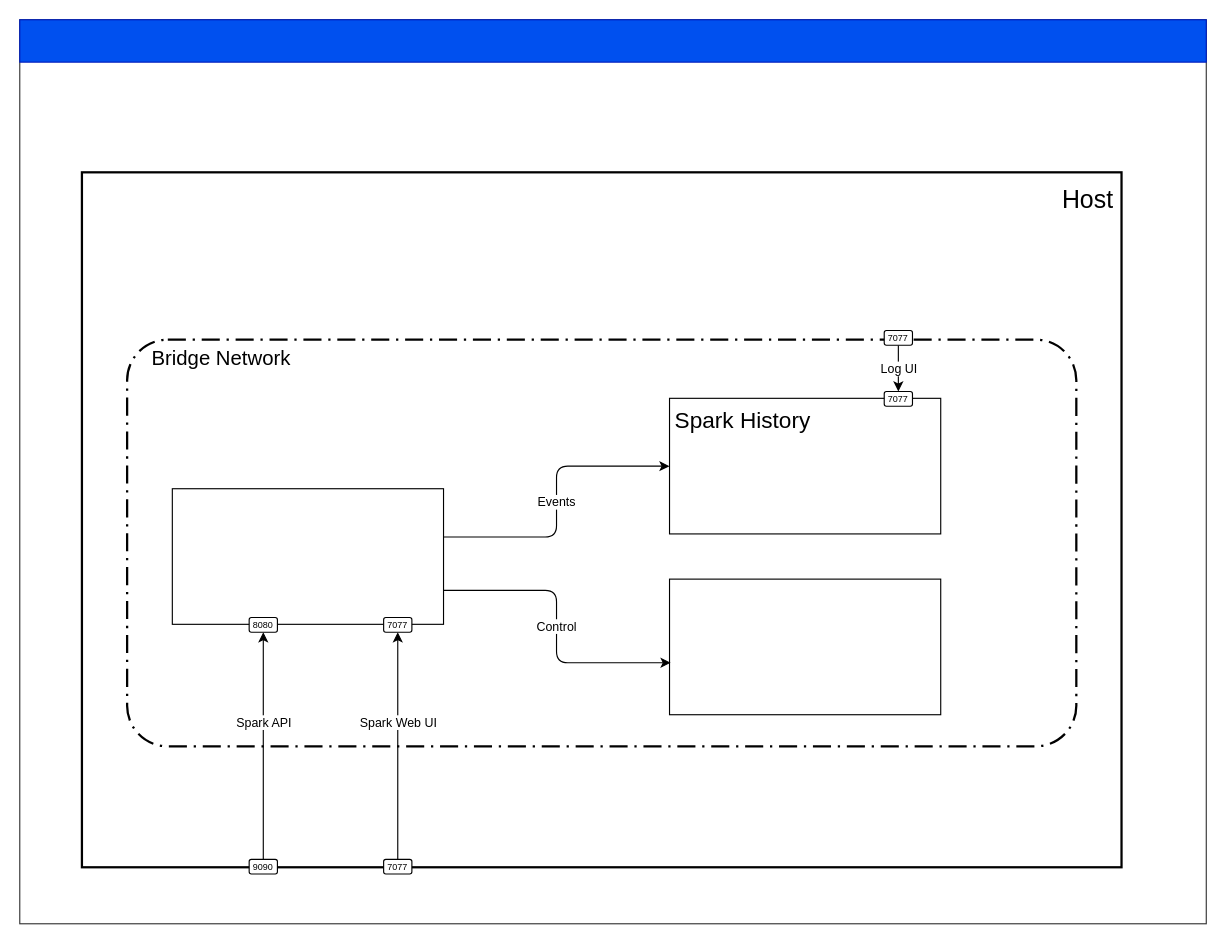
Image size: 1226x944. Some labels were removed from this diagram. The shapes that lost their labels are listed below. From the top down, each one's centre as x and y in pixels, then its label:
At (612,40): "Single Host Configuration".
At (307,556): "Spark Master".
At (804,646): "Spark Worker".
